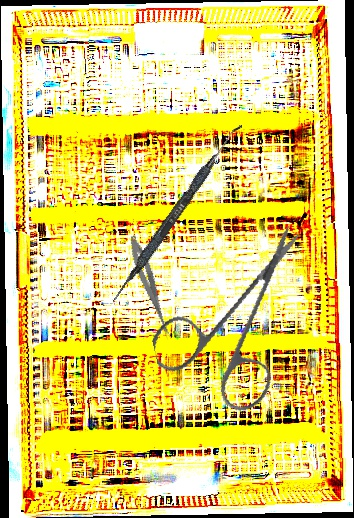Iris Scissors: (134, 224, 334, 428)
Micro Scissor: (124, 233, 178, 342)
Spatula Surgical: (110, 118, 243, 307)
